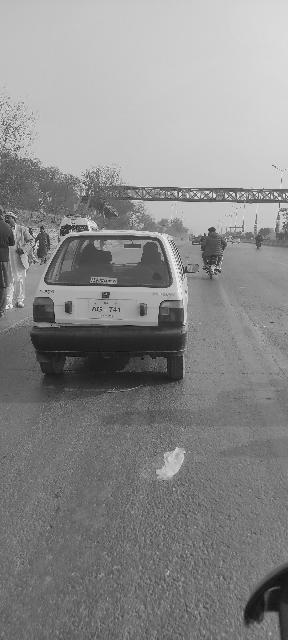Number: (91, 305, 122, 313)
